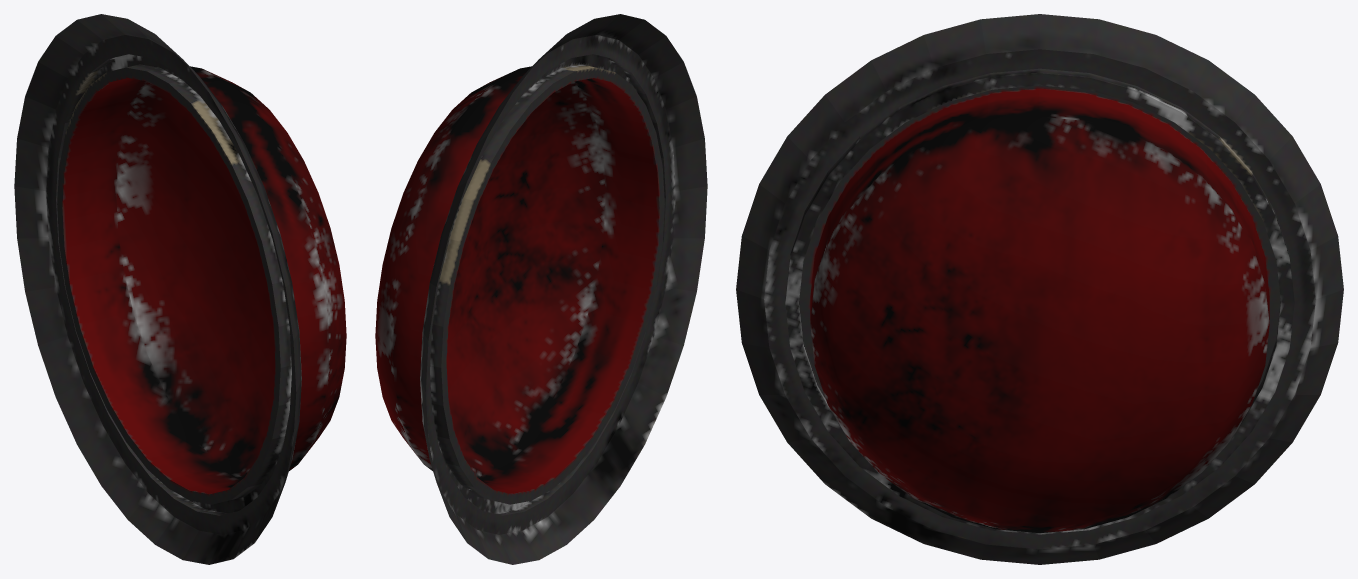
File: RedButton.FBX
3 views of the same model, side by side, from view 1: azimuth 30°, elevation 25°; view 2: azimuth 150°, elevation 25°; view 3: azimuth 270°, elevation 25° (orthographic). The views are drawn at different scales.
Parts seen in each view (by area): view 1: Button_Light, Button_Base; view 2: Button_Light, Button_Base; view 3: Button_Light, Button_Base.
Part boxes in pixels (x1,y1,x2,y2): Button_Light: (62, 66, 346, 494); Button_Base: (14, 14, 301, 564); Button_Light: (375, 66, 659, 494); Button_Base: (420, 14, 707, 564); Button_Light: (810, 88, 1269, 532); Button_Base: (736, 14, 1343, 564).
Size of the model in its own units: 7.98 by 29.17 by 29.17.
1 material, 1 textured.
